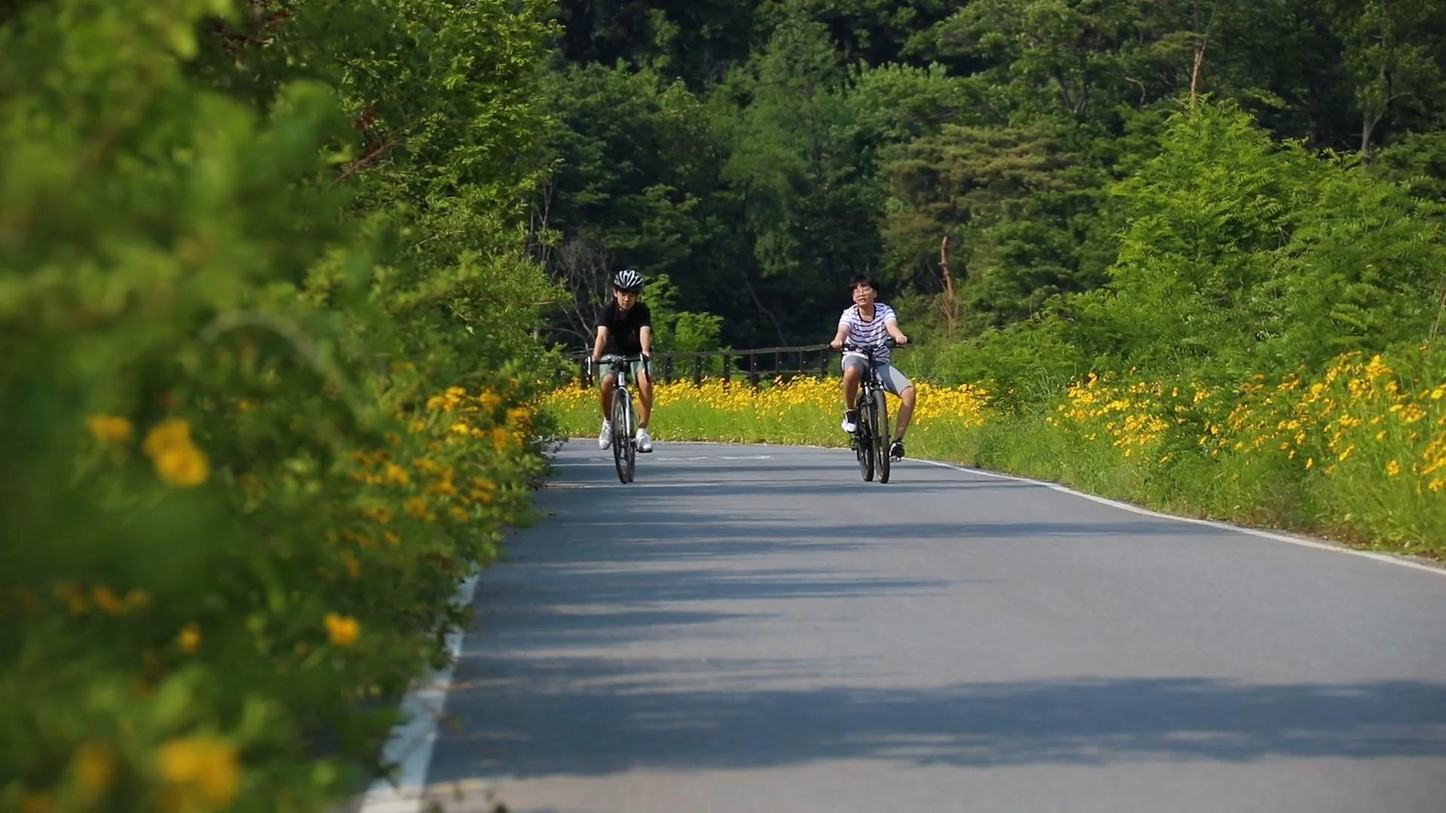bicyclist: (826, 271, 915, 483), (584, 270, 654, 485)
helmet: (612, 269, 644, 311)
no-helmet: (847, 272, 878, 306)
